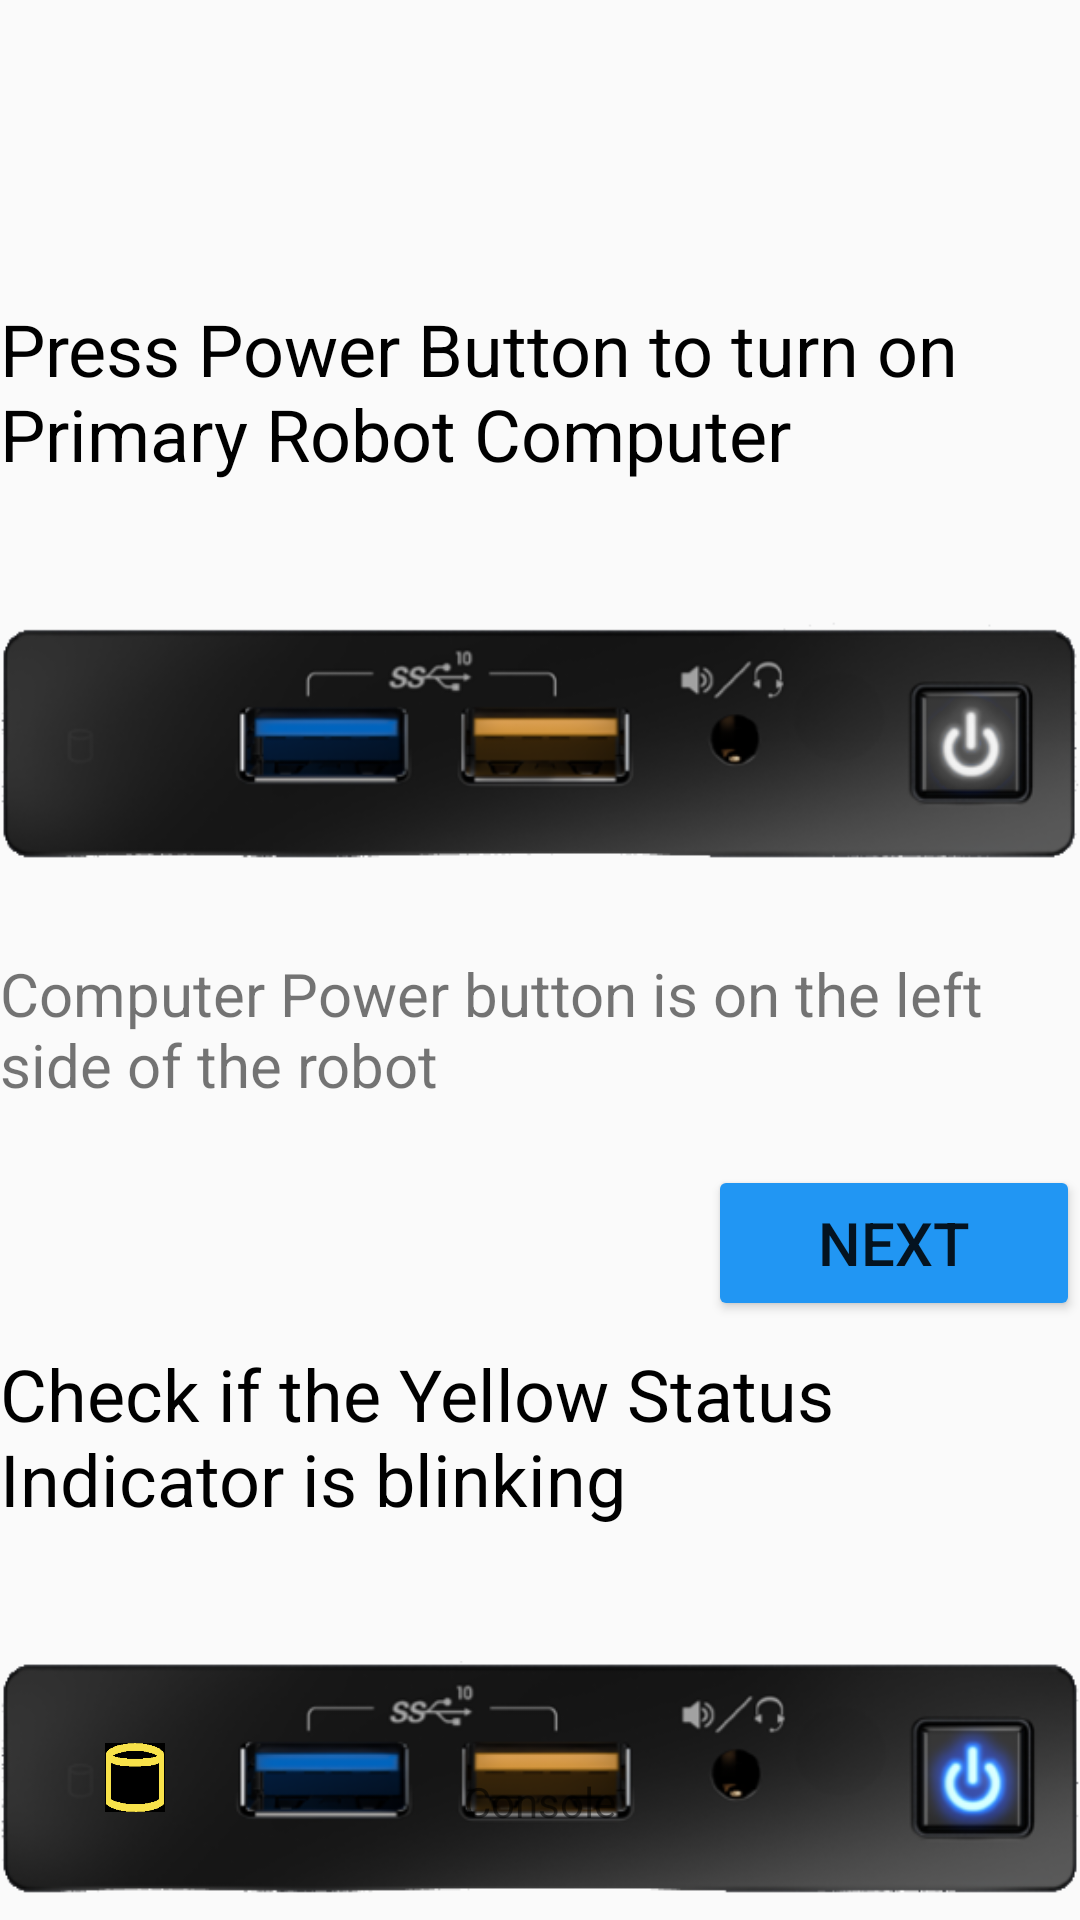

Where icons sit on this 1080×1920 app screen, as rect(x1, y1, x2, y2):
disk: rect(105, 1743, 165, 1812)
